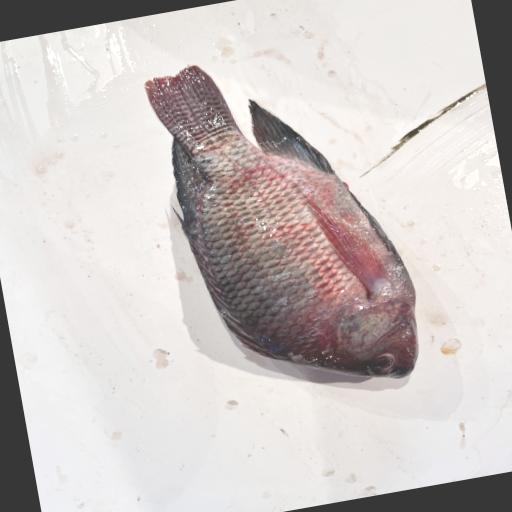Tilapia: (142, 33, 431, 413)
